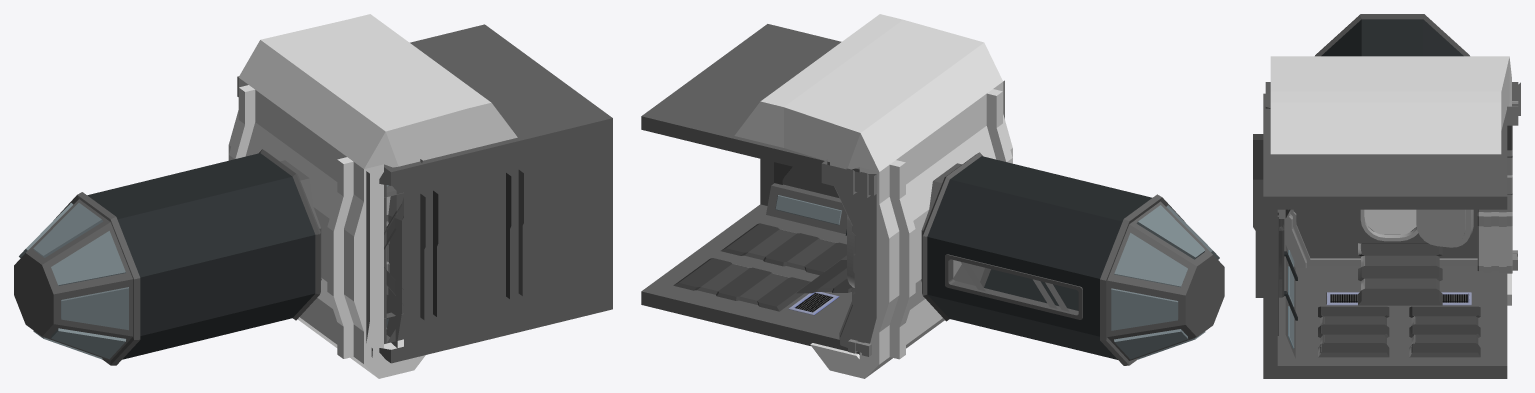
File: Ending.fbx
3 views of the same model, side by side, from view 1: azimuth 30°, elevation 25°; view 2: azimuth 150°, elevation 25°; view 3: azimuth 270°, elevation 25° (orthographic). The views are drawn at different scales.
Parts seen in each view (by area): view 1: Hallway Base.005, Cylinder.003, Cube.002, Greable.005, Transition.006; view 2: Cylinder.003, Cube.002, Hallway Base.005, Panel.009, Transition.006, Edge.005, Vent.024, Plane; view 3: Hallway Base.005, Cube.002, Panel.009, Transition.006, Cylinder.003, Cube.001, Greable.005, Edge.005, Vent.026, Vent.024.
Boxes of the visible parts, left/top/right/bottom form: Hallway Base.005: left=379, top=24, right=612, bottom=363; Cylinder.003: left=14, top=149, right=321, bottom=365; Cube.002: left=228, top=14, right=517, bottom=378; Greable.005: left=384, top=170, right=523, bottom=319; Transition.006: left=237, top=76, right=422, bottom=357; Cylinder.003: left=921, top=152, right=1224, bottom=365; Cube.002: left=734, top=14, right=1012, bottom=378; Hallway Base.005: left=641, top=24, right=859, bottom=354; Panel.009: left=673, top=223, right=853, bottom=311; Transition.006: left=821, top=80, right=1004, bottom=356; Edge.005: left=766, top=183, right=847, bottom=235; Vent.024: left=789, top=292, right=839, bottom=315; Plane: left=961, top=262, right=1069, bottom=311; Hallway Base.005: left=1263, top=93, right=1507, bottom=378; Cube.002: left=1270, top=56, right=1511, bottom=305; Panel.009: left=1318, top=243, right=1480, bottom=357; Transition.006: left=1265, top=82, right=1520, bottom=273; Cylinder.003: left=1315, top=14, right=1469, bottom=56; Cube.001: left=1360, top=209, right=1473, bottom=247; Greable.005: left=1253, top=134, right=1284, bottom=335; Edge.005: left=1277, top=209, right=1297, bottom=358; Vent.026: left=1326, top=292, right=1359, bottom=305; Vent.024: left=1441, top=292, right=1471, bottom=305.
Size of what is drawn, in the model's own units: 3917 by 1831 by 1865.
